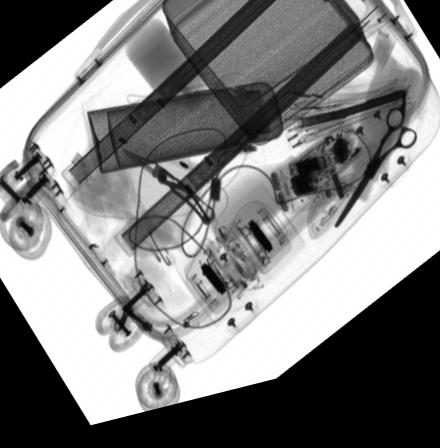Knife: (118, 153, 214, 236)
Scissors: (331, 110, 417, 246)
